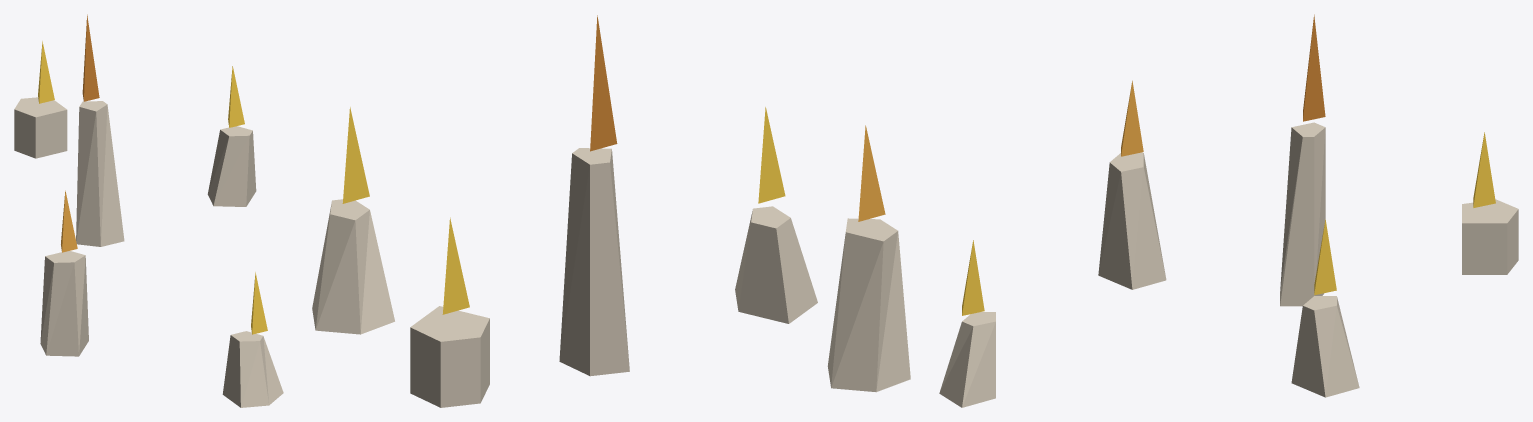
The picture shows the model from 3 angles, left to right: view 1: azimuth 30°, elevation 25°; view 2: azimuth 150°, elevation 25°; view 3: azimuth 270°, elevation 25°; orthographic projection. The views are drawn at different scales.
Bounding box in the file's own units: 37 × 35 × 51.
1 material, 1 textured.
